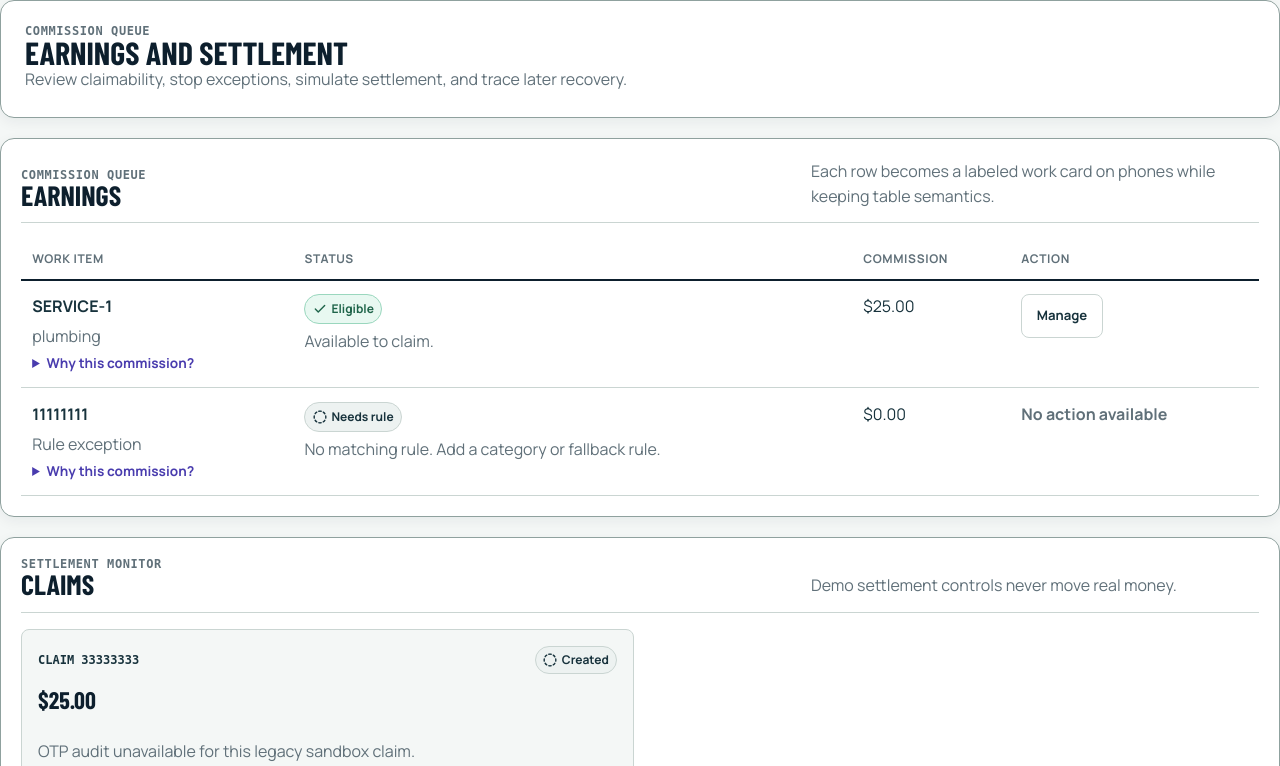
Test case: OwnerWorkspaceProvider and owner pages › applies a hold, shows its reason, and revalidates earnings
The width and height of the screenshot is (1280, 766).
Step 1. Click the button "Manage" in the row of "SERVICE-1" → click(1062, 316), box [1021, 294, 1103, 338]
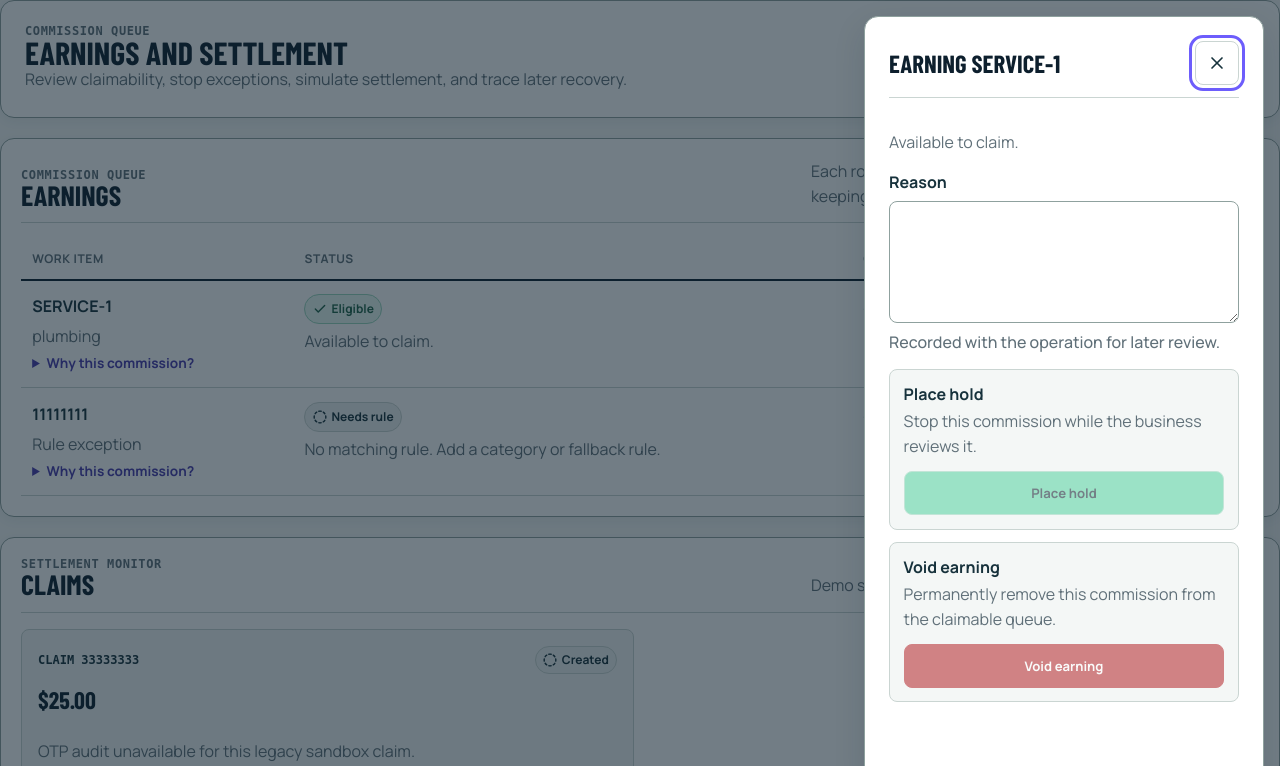
Step 2. Click the button "Place hold" → click(1064, 493), box [904, 471, 1224, 515]
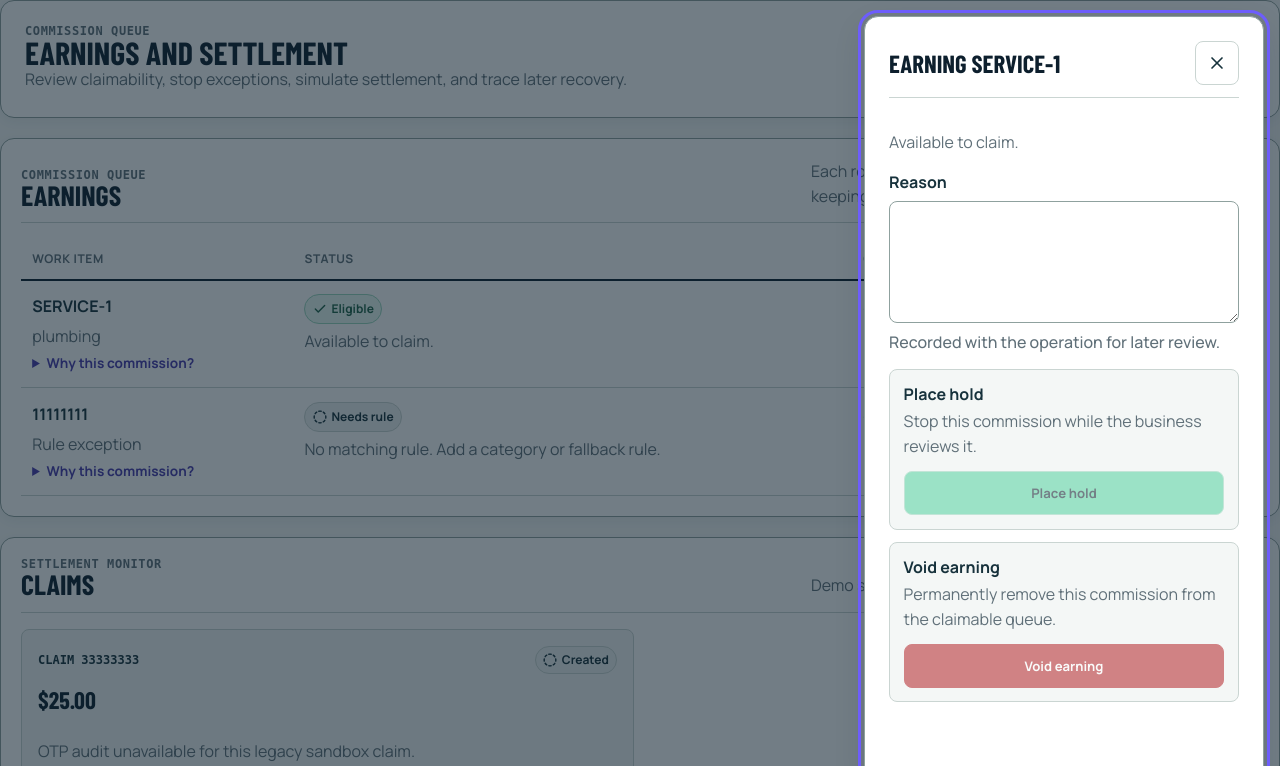
Step 3. Type "Manual review" into the text box labelled "Reason" → (1064, 262), box [889, 201, 1239, 323]
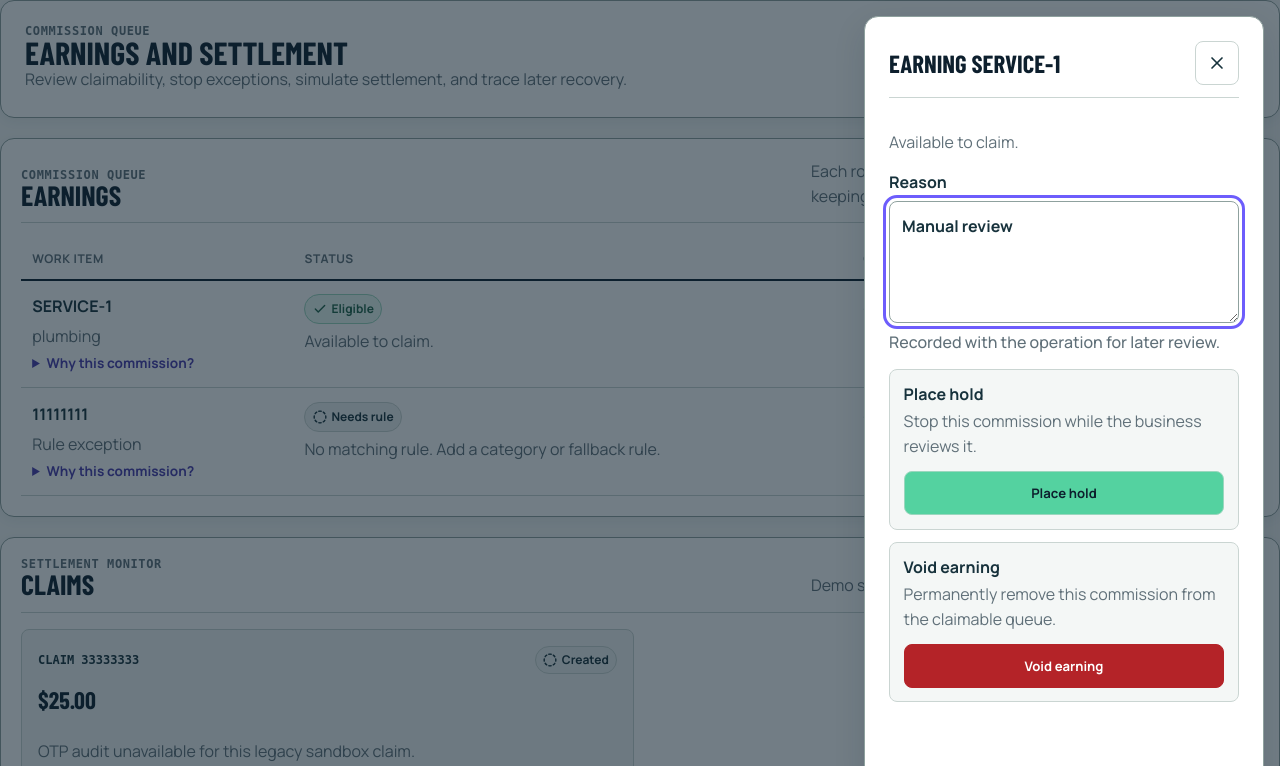
Step 4. Click the button "Place hold" → click(1064, 493), box [904, 471, 1224, 515]
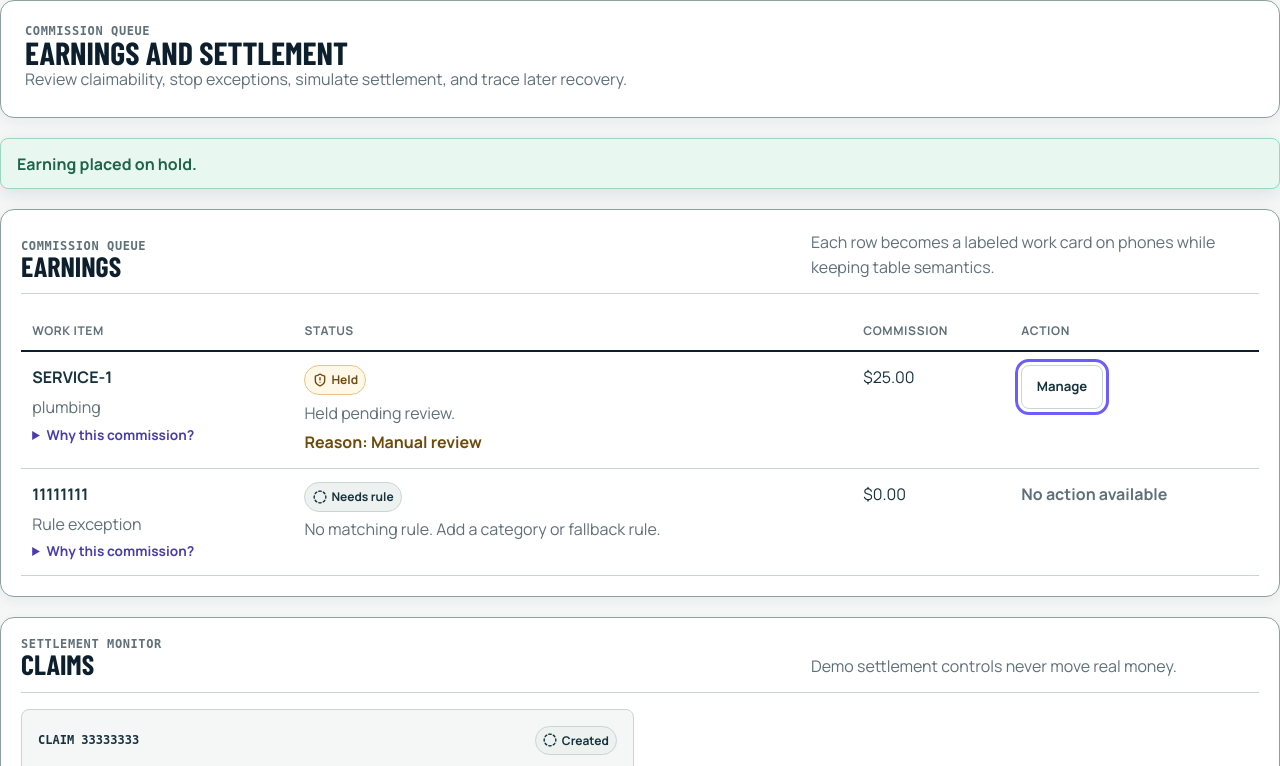
Result: the text "Held pending review." is shown at [304, 402, 455, 424]
Result: the text "Reason: Manual review" is shown at [304, 431, 482, 453]
Result: the message shows "Earning placed on hold" at [17, 153, 197, 175]
